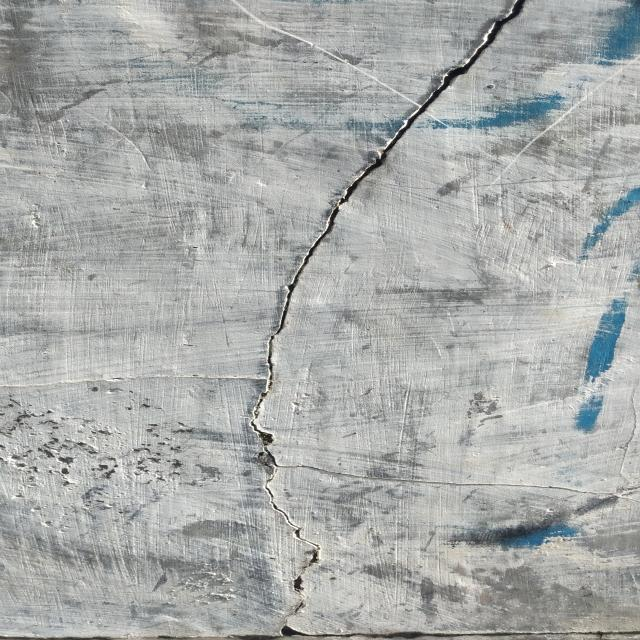Crack: (246, 0, 621, 635)
